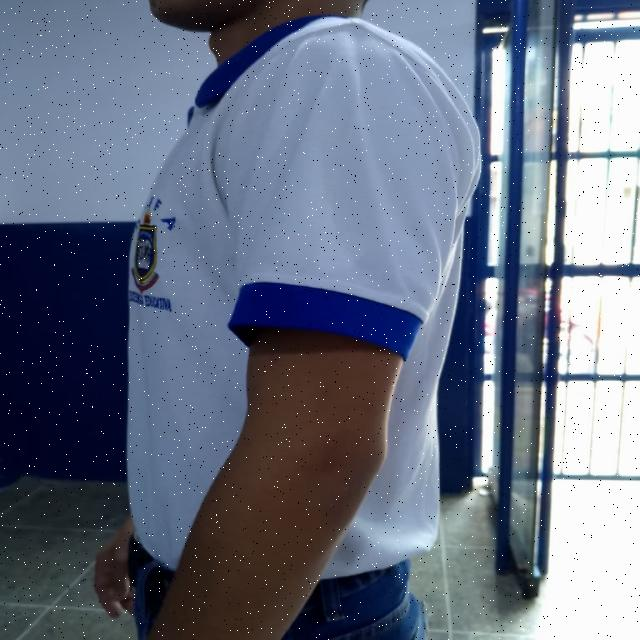uniforme_superior: (126, 12, 483, 580)
